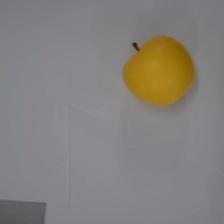yellow: (122, 34, 195, 105)
